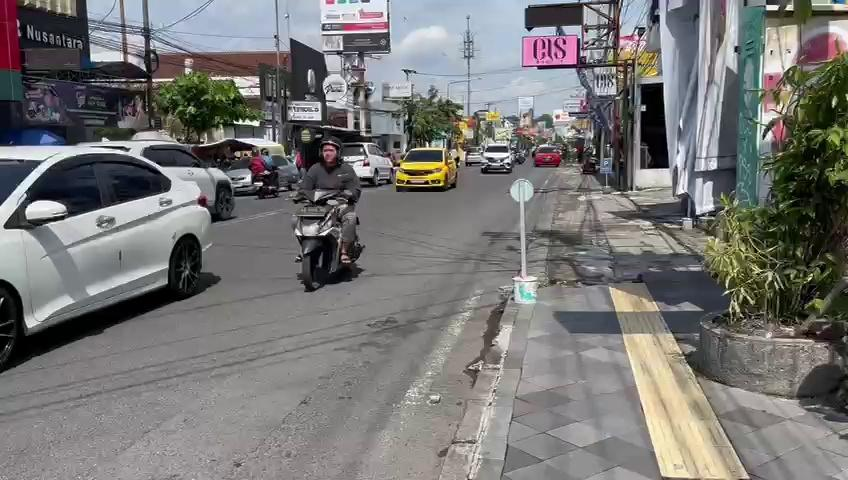helm: (317, 135, 344, 164)
riding: (284, 135, 367, 292)
